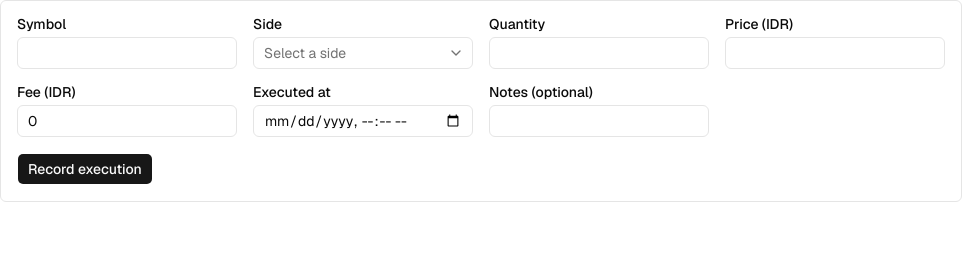
Test: ExecutionForm › shows a validation error and never submits when required fields are blank
The image size is (979, 263).
Click the button "Record execution" at (85, 169), box [17,153,153,185]
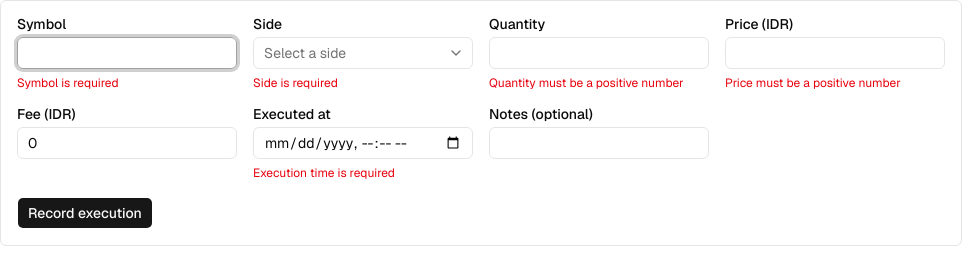
Result: the text "Symbol is required" is shown at [17,75,119,91]
